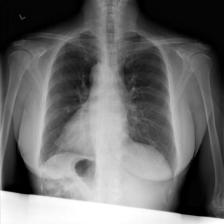normal: (35, 27, 180, 188)
